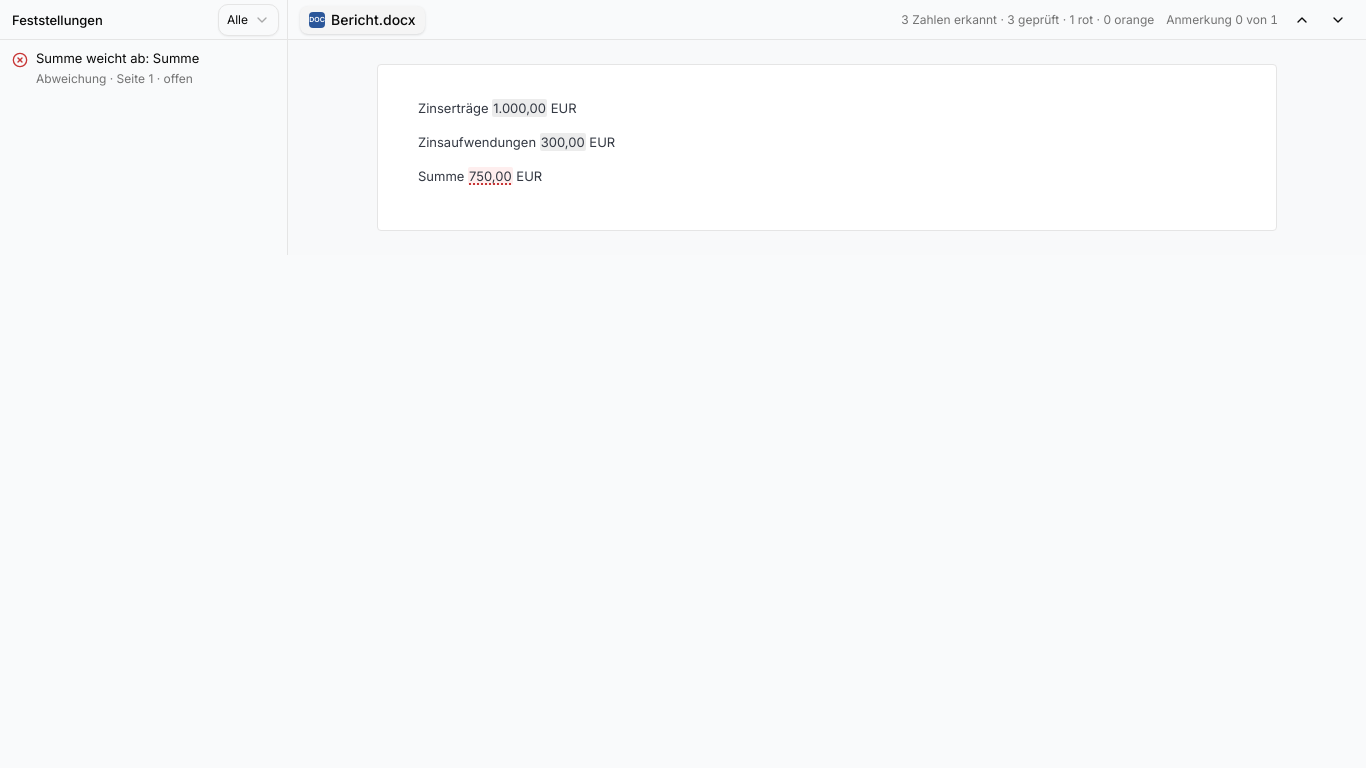
PlausibilityWorkspace popover › shows a ratio as division and percent scaling
Click the button "750,00": point(490, 176) left=468, top=167, right=513, bottom=185
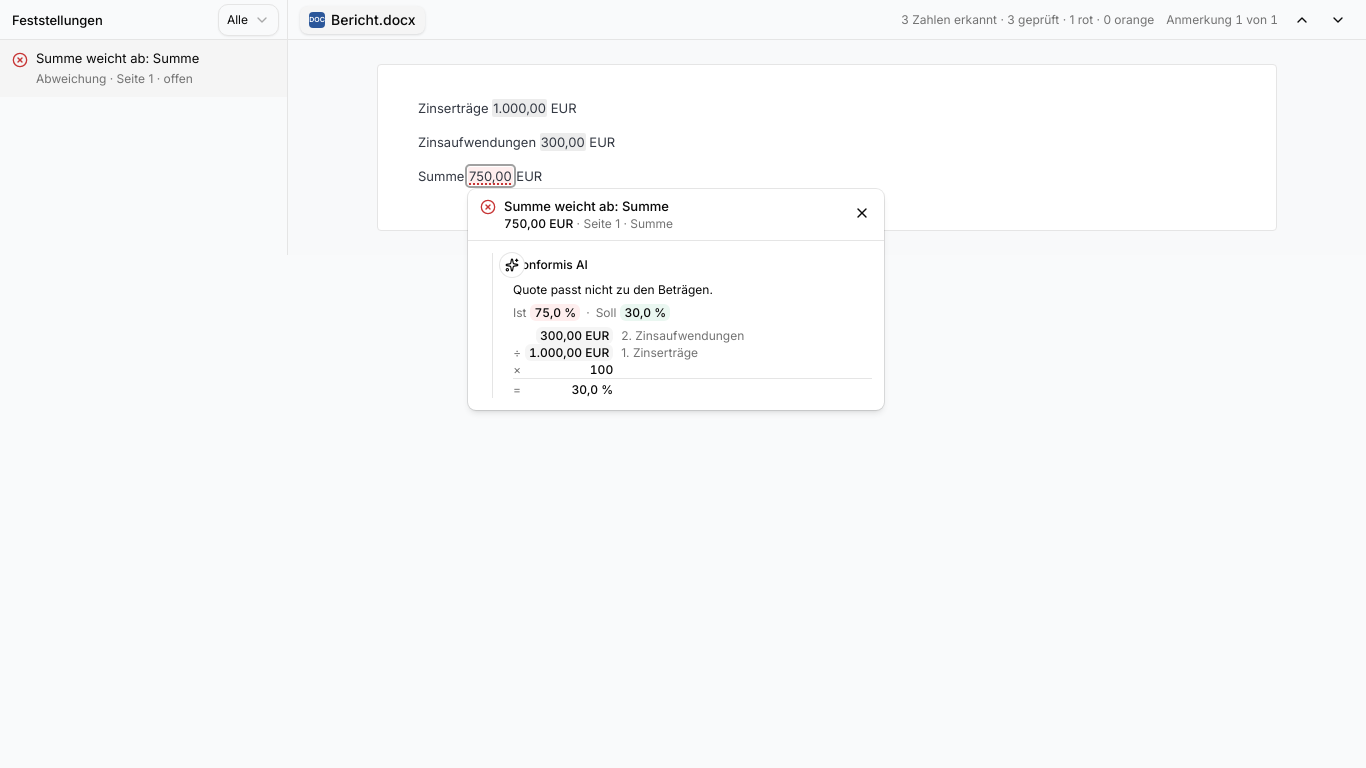
Expected: the rows read "300,00 EUR2. Zinsaufwendungen", "÷1.000,00 EUR1. Zinserträge", "×100", "=30,0 %", in this order, left=513, top=327, right=872, bottom=344; left=513, top=344, right=872, bottom=361; left=513, top=361, right=872, bottom=378; left=513, top=378, right=872, bottom=398
